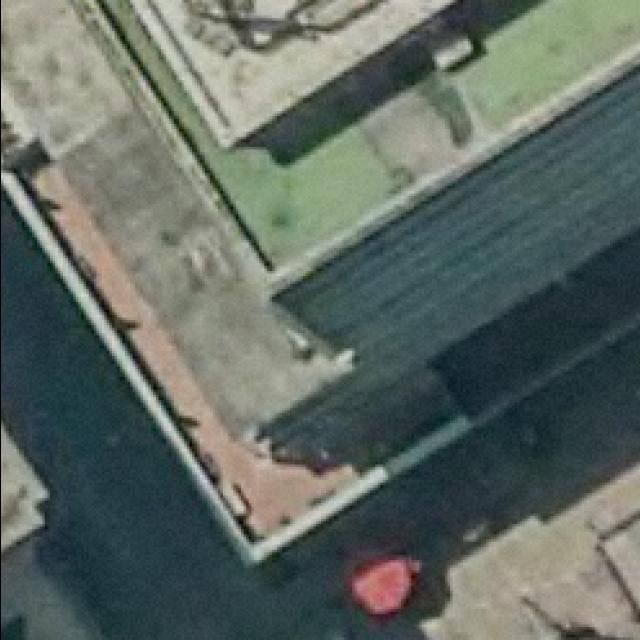vendedor_ambulante: (341, 536, 417, 620)
